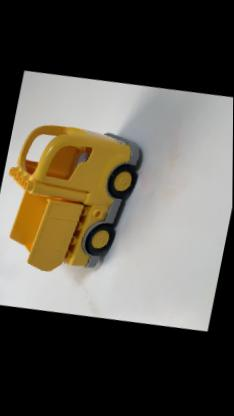yellow dump truck: (0, 112, 146, 290)
